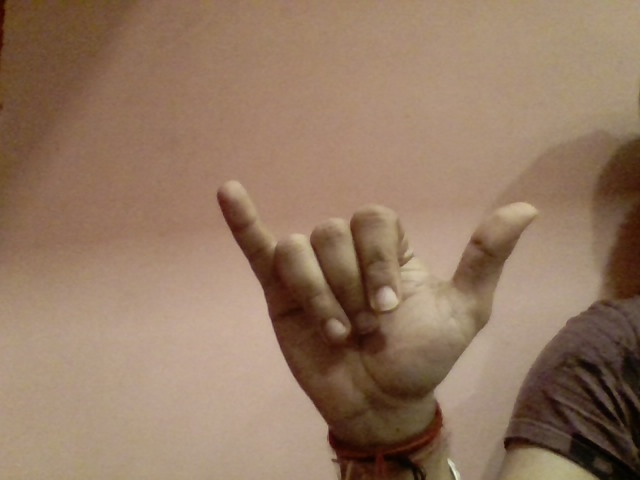y: (205, 168, 545, 423)
